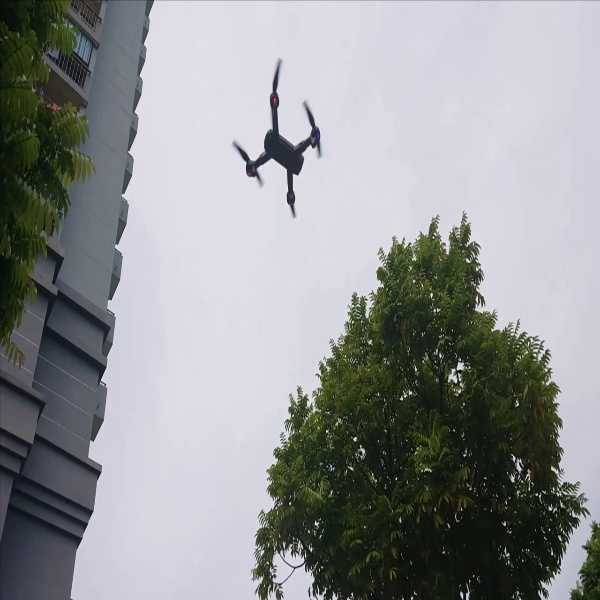drone: (212, 52, 330, 217)
